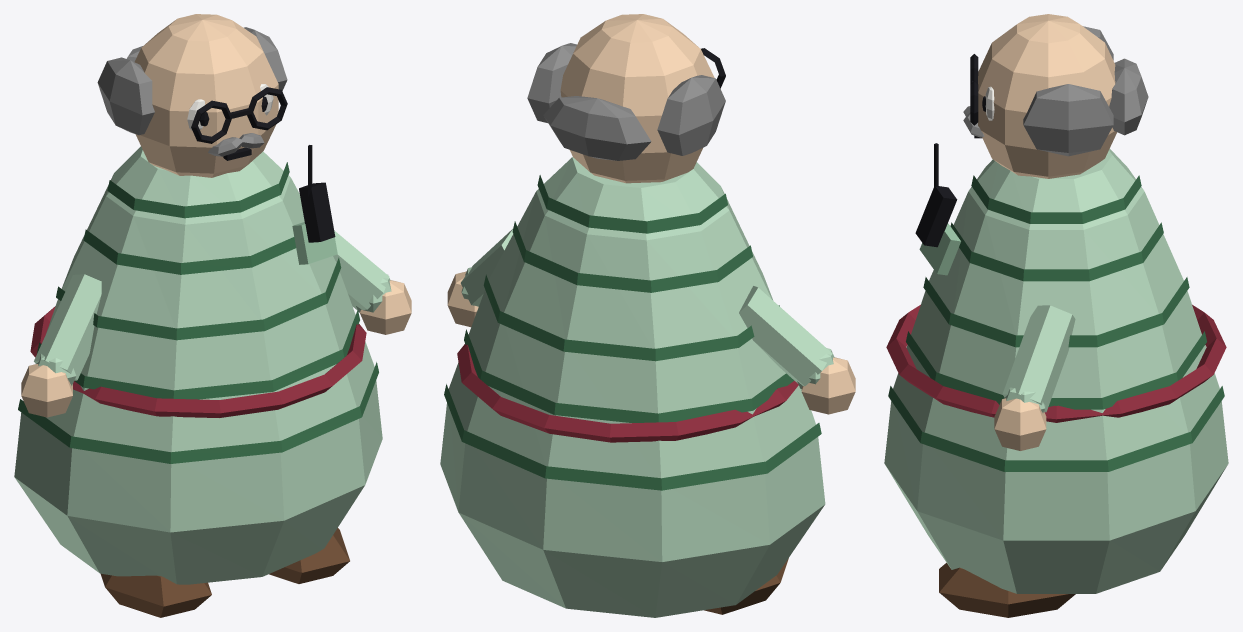
Rendered from npc_gerente.glb.
3 views of the same model, side by side, from view 1: azimuth 30°, elevation 25°; view 2: azimuth 150°, elevation 25°; view 3: azimuth 270°, elevation 25° (orthographic). The views are drawn at different scales.
Visible parts, largest first — view 1: body_pajama_green, body_pajama_green_stripe, head_skin_crema, arms_pajama_green, body_robe_belt, legs_slippers_brown, head_hair_grey, arms_skin_crema, face_black, walkie_black, body_pajama_pocket, face_hair_grey; view 2: body_pajama_green, body_pajama_green_stripe, head_skin_crema, head_hair_grey, body_robe_belt, arms_pajama_green, arms_skin_crema, legs_slippers_brown; view 3: body_pajama_green, body_pajama_green_stripe, head_skin_crema, head_hair_grey, body_robe_belt, arms_pajama_green, legs_slippers_brown, arms_skin_crema, walkie_black, body_pajama_pocket, face_black.
Part boxes in pixels (bbox=[...]): body_pajama_green: bbox=[14, 146, 382, 584]; body_pajama_green_stripe: bbox=[18, 162, 378, 463]; head_skin_crema: bbox=[134, 14, 278, 177]; arms_pajama_green: bbox=[34, 230, 391, 385]; body_robe_belt: bbox=[30, 306, 366, 417]; legs_slippers_brown: bbox=[100, 528, 349, 617]; head_hair_grey: bbox=[97, 27, 287, 135]; arms_skin_crema: bbox=[21, 280, 411, 417]; face_black: bbox=[191, 87, 287, 160]; walkie_black: bbox=[299, 145, 335, 242]; body_pajama_pocket: bbox=[292, 222, 337, 264]; face_hair_grey: bbox=[208, 133, 264, 156]; body_pajama_green: bbox=[440, 157, 825, 617]; body_pajama_green_stripe: bbox=[444, 175, 821, 490]; head_skin_crema: bbox=[560, 14, 714, 183]; head_hair_grey: bbox=[527, 43, 725, 160]; body_robe_belt: bbox=[457, 344, 798, 442]; arms_pajama_green: bbox=[460, 228, 834, 388]; arms_skin_crema: bbox=[447, 271, 855, 414]; legs_slippers_brown: bbox=[704, 558, 788, 614]; body_pajama_green: bbox=[884, 149, 1228, 593]; body_pajama_green_stripe: bbox=[888, 175, 1224, 471]; head_skin_crema: bbox=[978, 14, 1116, 178]; head_hair_grey: bbox=[1023, 26, 1148, 156]; body_robe_belt: bbox=[886, 304, 1226, 422]; arms_pajama_green: bbox=[1002, 305, 1075, 412]; legs_slippers_brown: bbox=[939, 563, 1075, 617]; arms_skin_crema: bbox=[994, 398, 1046, 450]; walkie_black: bbox=[915, 143, 957, 247]; body_pajama_pocket: bbox=[919, 223, 960, 275]; face_black: bbox=[970, 54, 985, 138].
Size of the model in its own units: 1.13 by 1.53 by 0.86.
